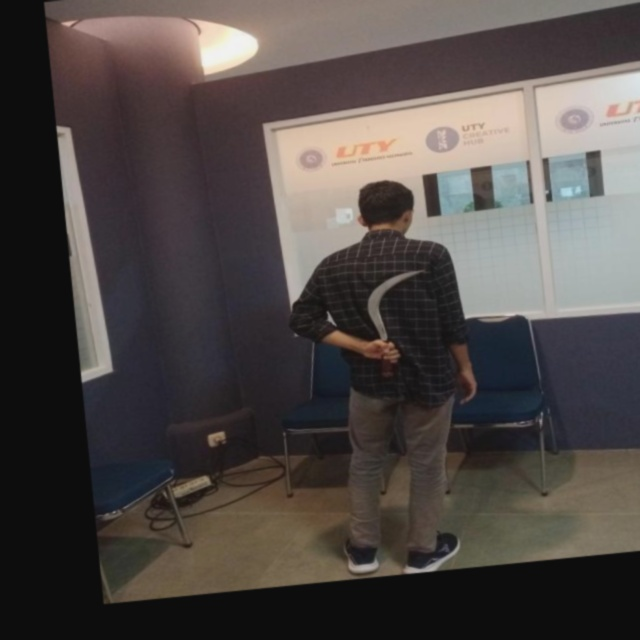Sharp-Object: (355, 260, 441, 374)
